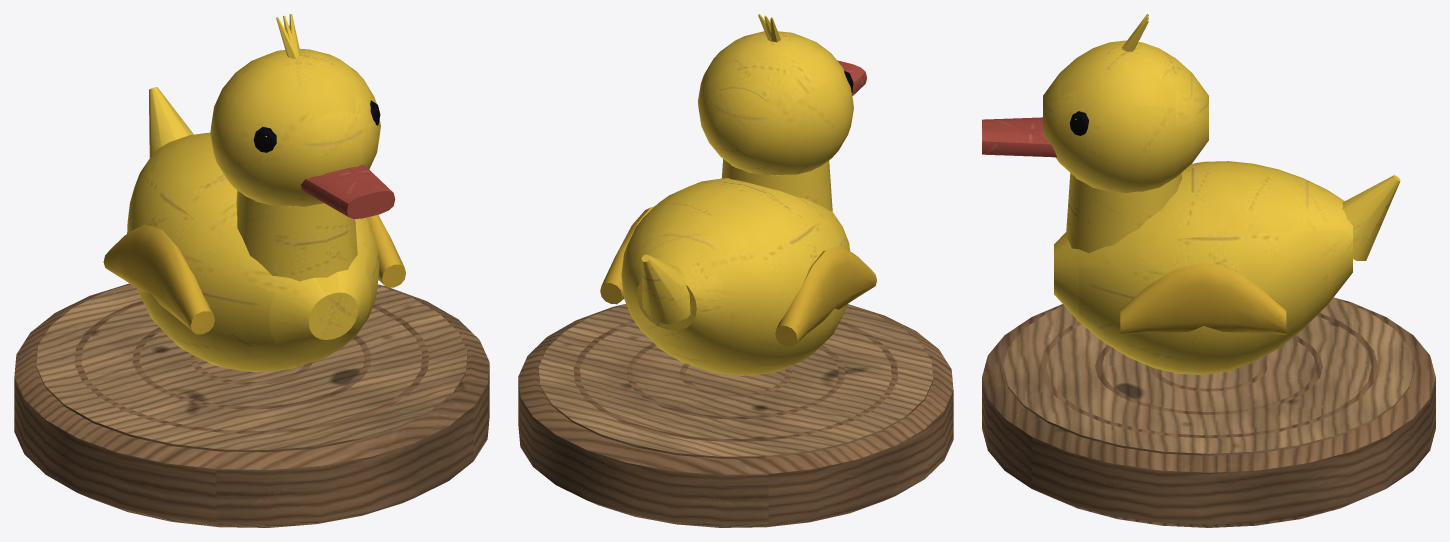
The model's file is duck_statuette.glb.
3 renders of one model, left to right at view 1: azimuth 30°, elevation 25°; view 2: azimuth 150°, elevation 25°; view 3: azimuth 270°, elevation 25°, orthographic. The views are drawn at different scales.
Parts seen in each view (by area): view 1: DuckStatuetteBody; view 2: DuckStatuetteBody; view 3: DuckStatuetteBody.
Part boxes in pixels (x1=…): DuckStatuetteBody: x1=14, y1=14, x2=489, y2=527; DuckStatuetteBody: x1=518, y1=14, x2=953, y2=527; DuckStatuetteBody: x1=982, y1=14, x2=1435, y2=527.
Bounding box in the file's own units: 0.41 × 0.4204 × 0.41.
Materials: 7 (6 with a texture image).
